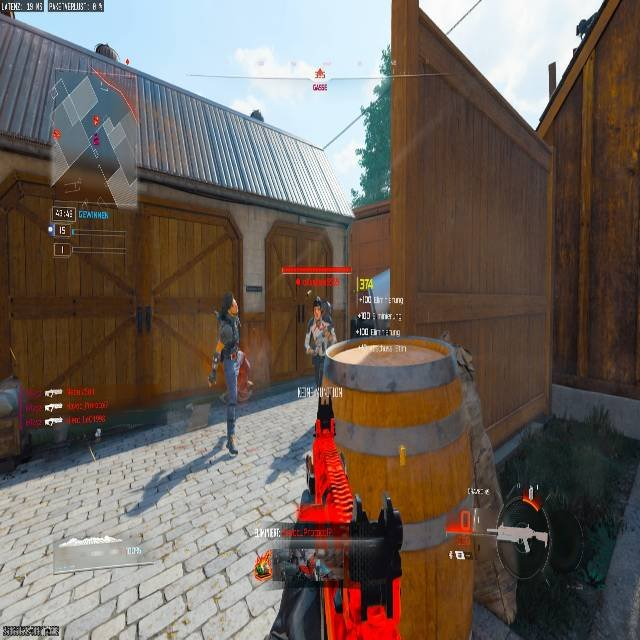head: (221, 292, 236, 312), (313, 296, 321, 305)
player: (207, 326, 252, 445), (208, 292, 246, 398), (305, 292, 339, 390), (310, 296, 333, 357), (216, 297, 241, 347)
